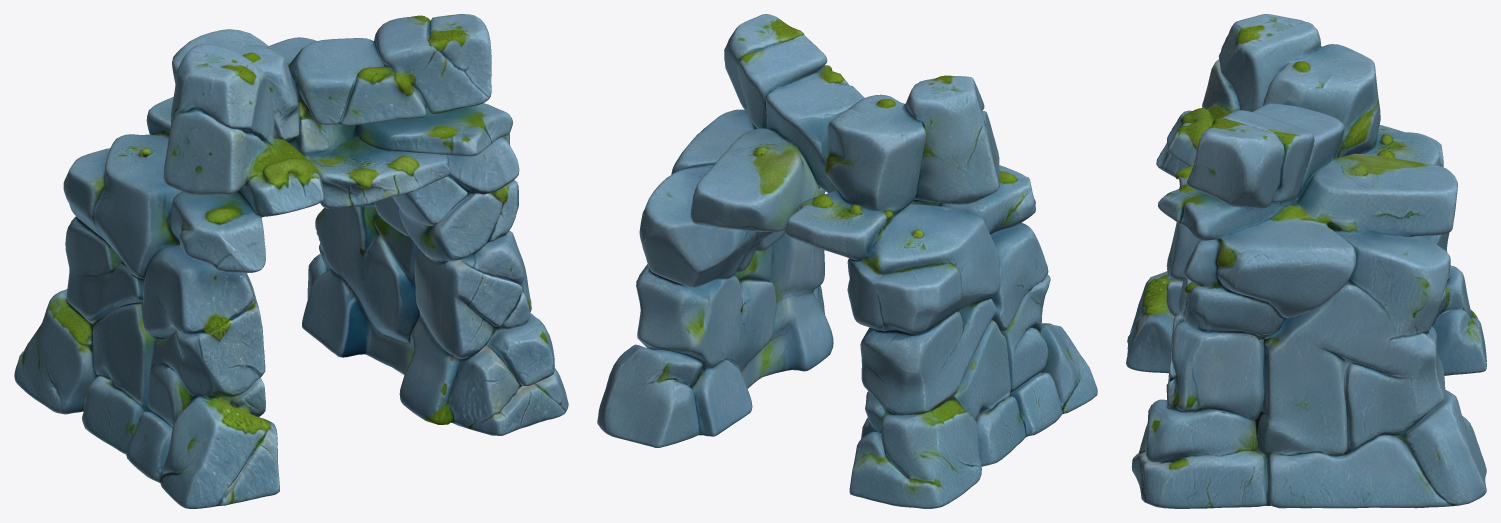
File: cave_entrance.glb
The picture shows the model from 3 angles, left to right: view 1: azimuth 30°, elevation 25°; view 2: azimuth 150°, elevation 25°; view 3: azimuth 270°, elevation 25°; orthographic projection. The views are drawn at different scales.
Parts seen in each view (by area): view 1: model; view 2: model; view 3: model.
Part boxes in pixels (x1=…): model: x1=14, y1=14, x2=568, y2=508; model: x1=597, y1=14, x2=1097, y2=508; model: x1=1126, y1=14, x2=1486, y2=508.
Bounding box in the file's own units: 1.9 × 1.71 × 1.6.
Materials: 1 (1 with a texture image).
